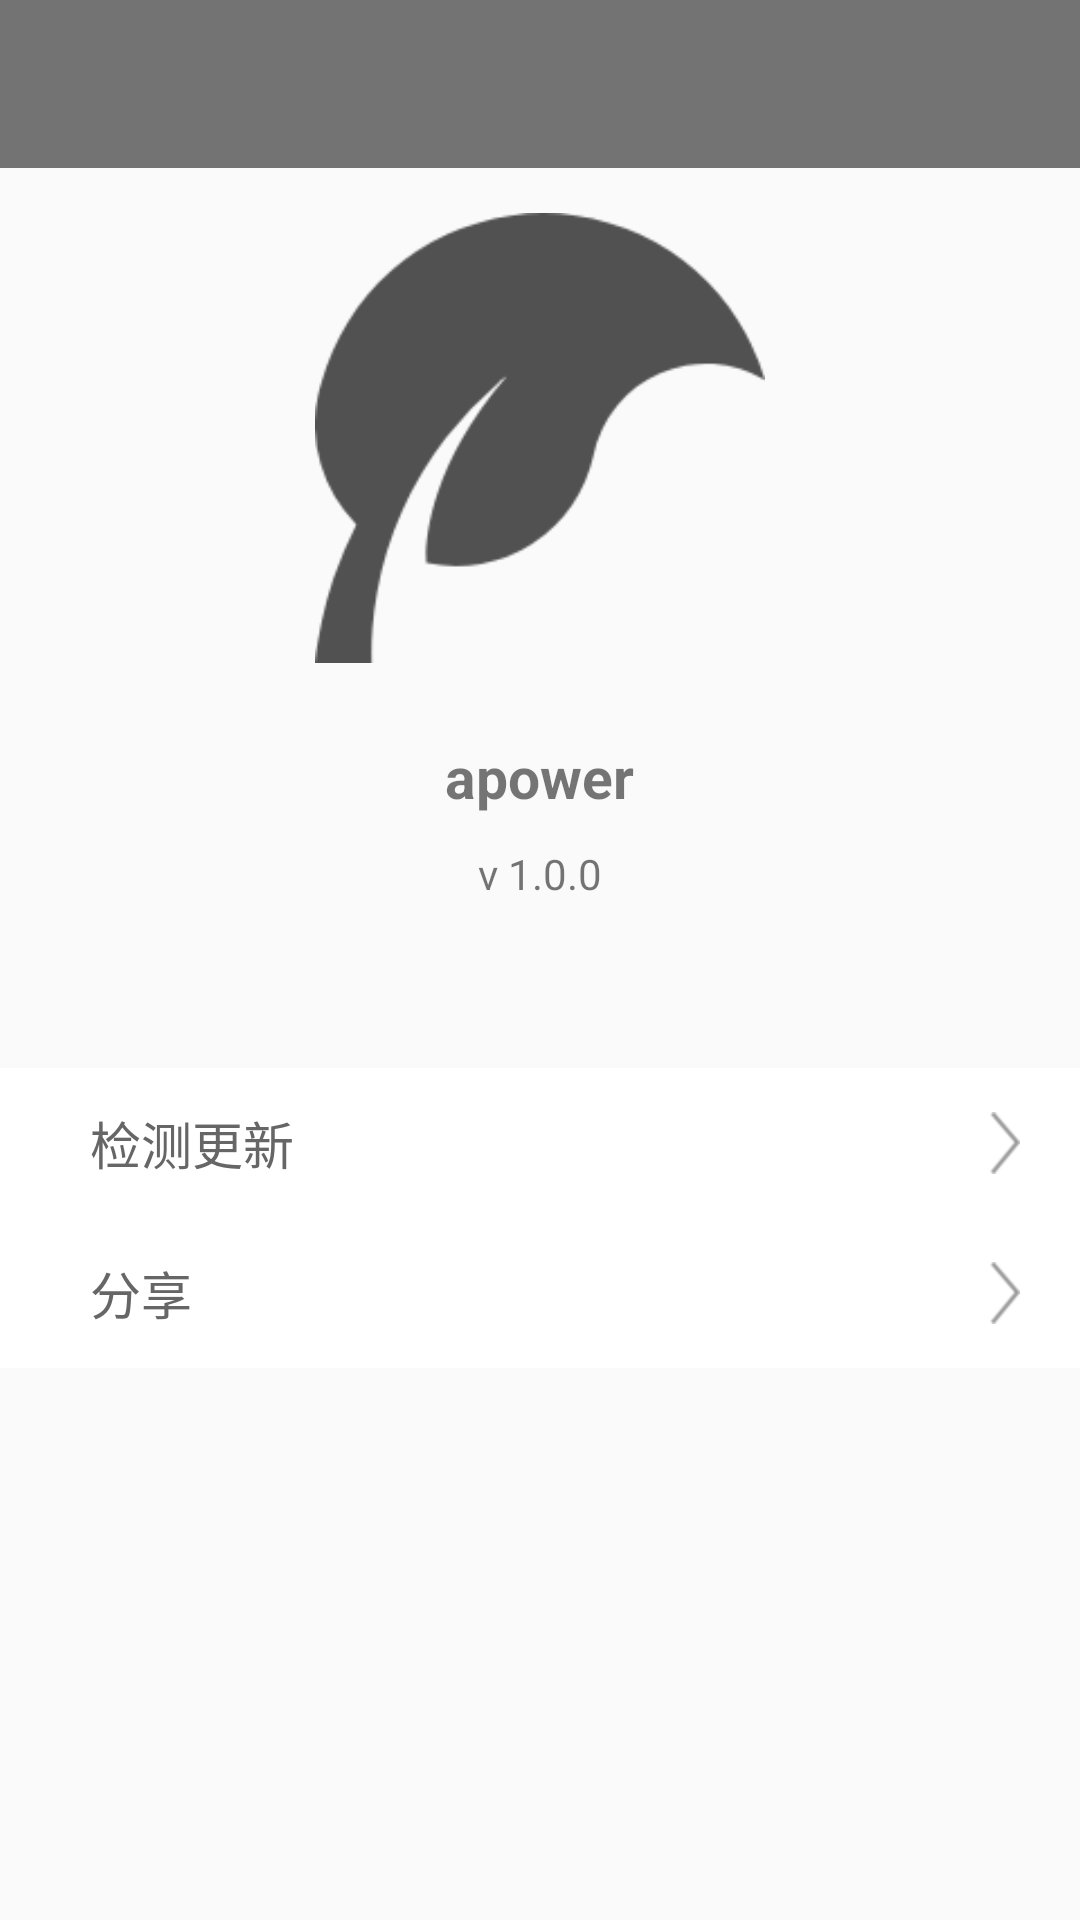

Icons on this 1080*1920 Android screen, each with its box as (x1, y1, x2, y2):
arrow right: (991, 1112, 1020, 1174), (991, 1262, 1020, 1324)
